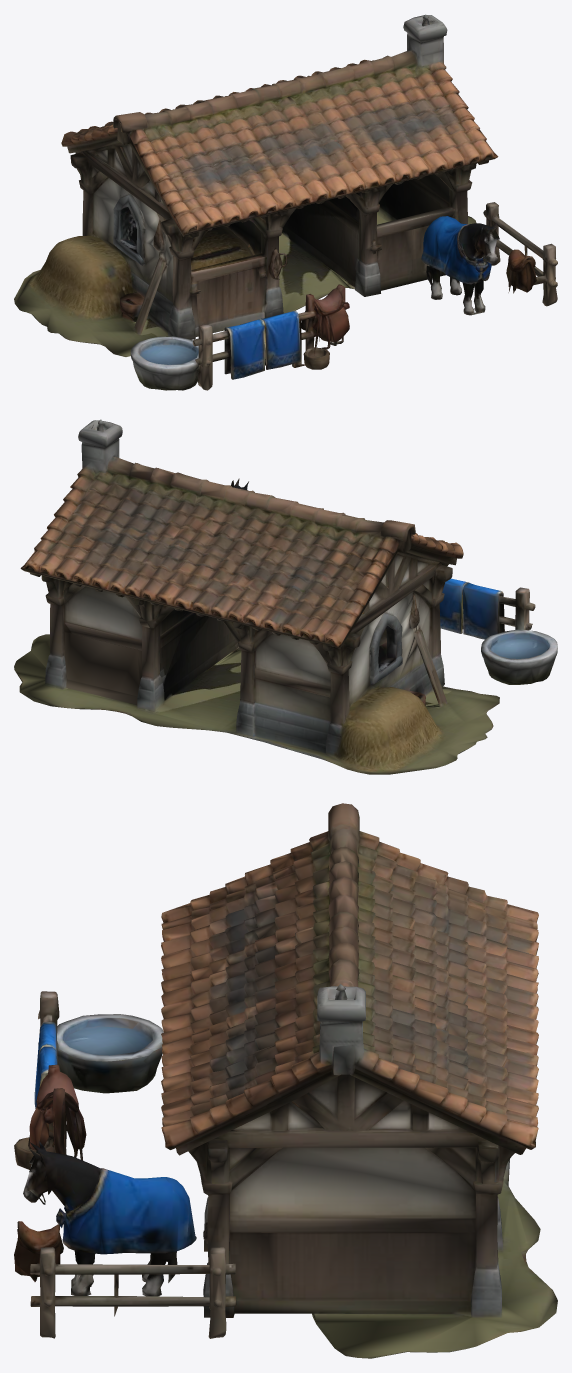
The model's file is hum_stable.glb.
3 views of the same model, one above another, from view 1: azimuth 30°, elevation 25°; view 2: azimuth 150°, elevation 25°; view 3: azimuth 270°, elevation 25° (orthographic). The views are drawn at different scales.
Visible parts, largest first — view 1: node_0; view 2: node_0; view 3: node_0.
Boxes of the visible parts, <box> form: node_0: <box>14,14,557,390</box>; node_0: <box>14,419,557,774</box>; node_0: <box>14,803,557,1358</box>.
Size of the model in its own units: 0.9989 by 0.4968 by 0.7258.
Materials: 1 (1 with a texture image).
